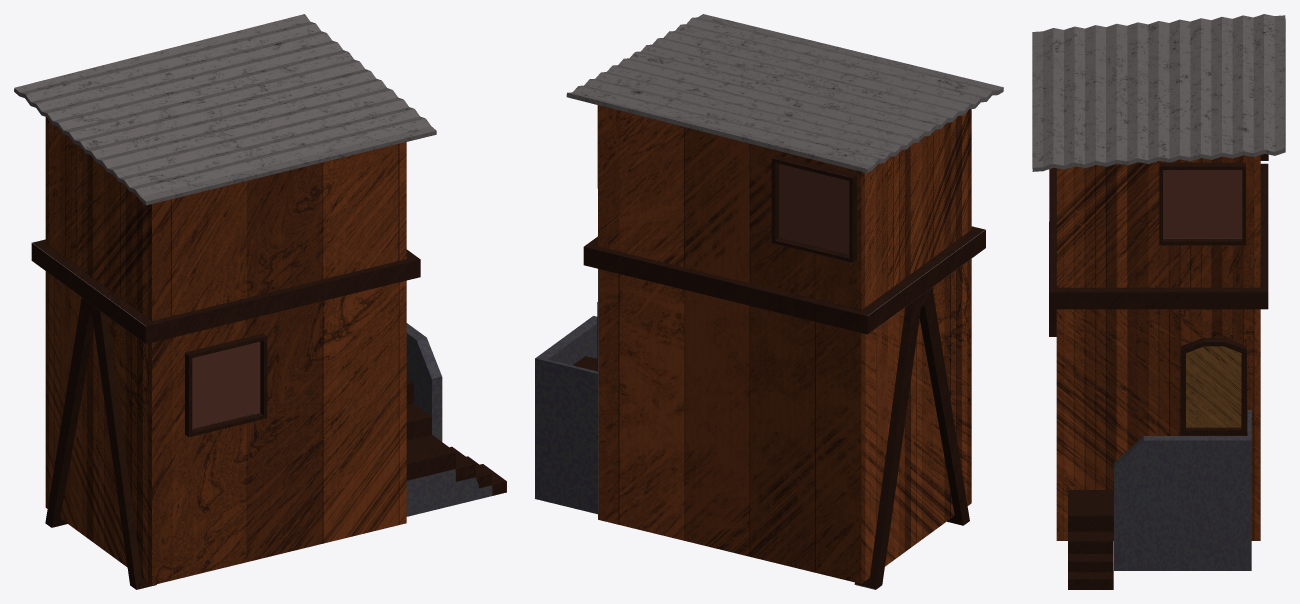
The model's file is CasaPeriferia5.fbx.
3 renders of one model, left to right at view 1: azimuth 30°, elevation 25°; view 2: azimuth 150°, elevation 25°; view 3: azimuth 270°, elevation 25°, orthographic. The views are drawn at different scales.
Parts seen in each view (by area): view 1: LOD_0; view 2: LOD_0; view 3: LOD_0.
Boxes of the visible parts, x1=… form: LOD_0: x1=14, y1=14, x2=506, y2=589; LOD_0: x1=535, y1=14, x2=1003, y2=589; LOD_0: x1=1032, y1=14, x2=1285, y2=589.
Size of what is drawn, in the model's own units: 551 by 593 by 332.
